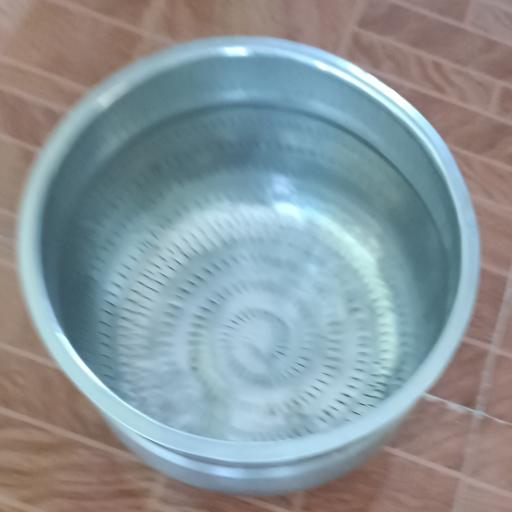vessel: (19, 37, 479, 494)
